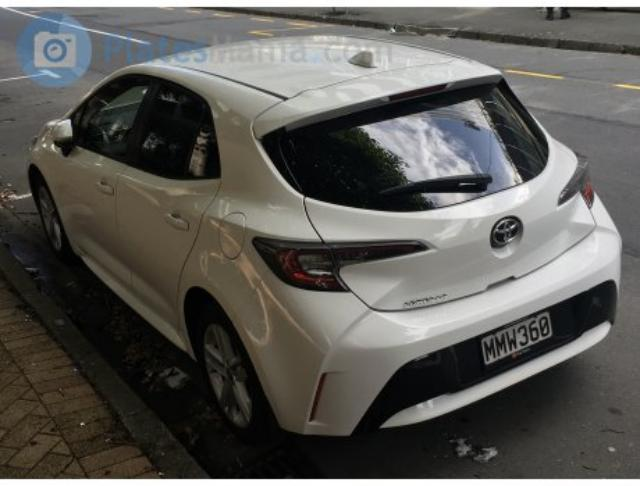Rego: (478, 309, 557, 368)
